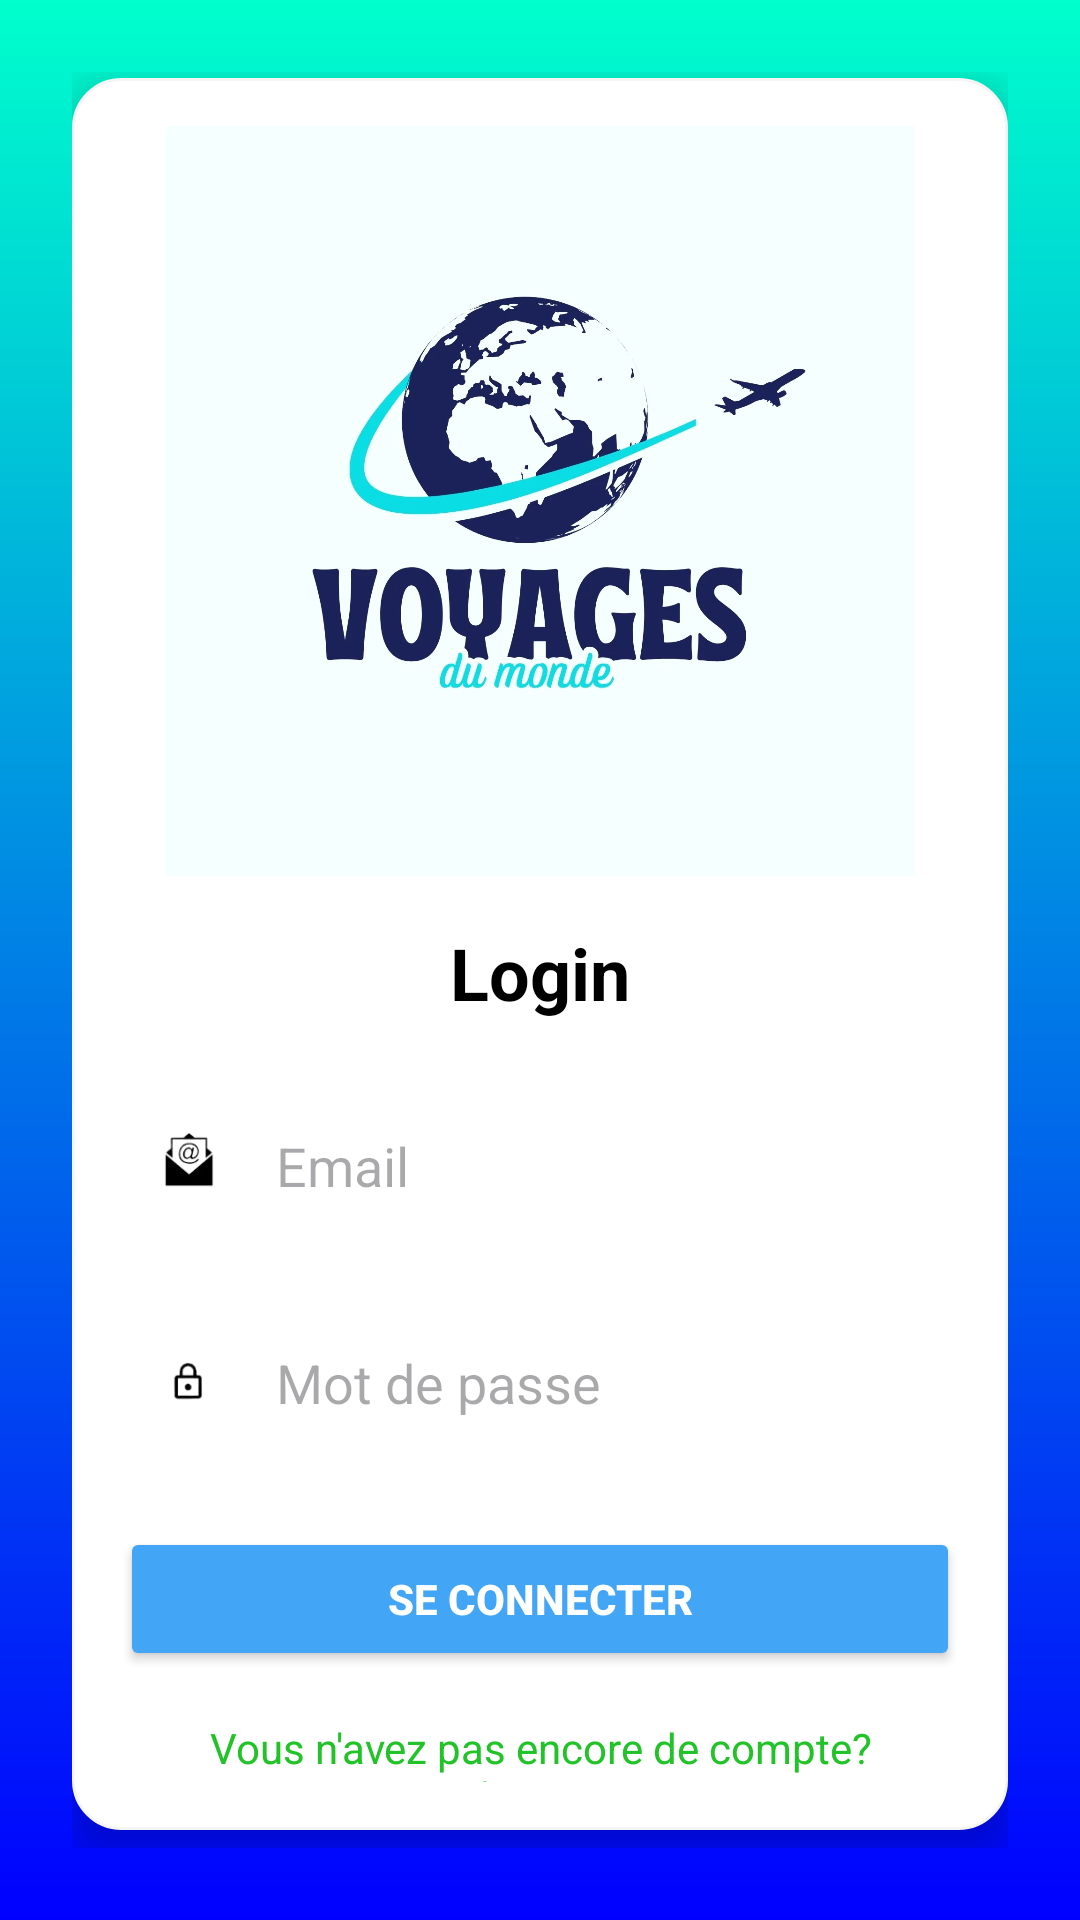

Point at icon controls on the screen. Image size 1080px x 1920px, points as point (x, y).
lock: point (188, 1381)
